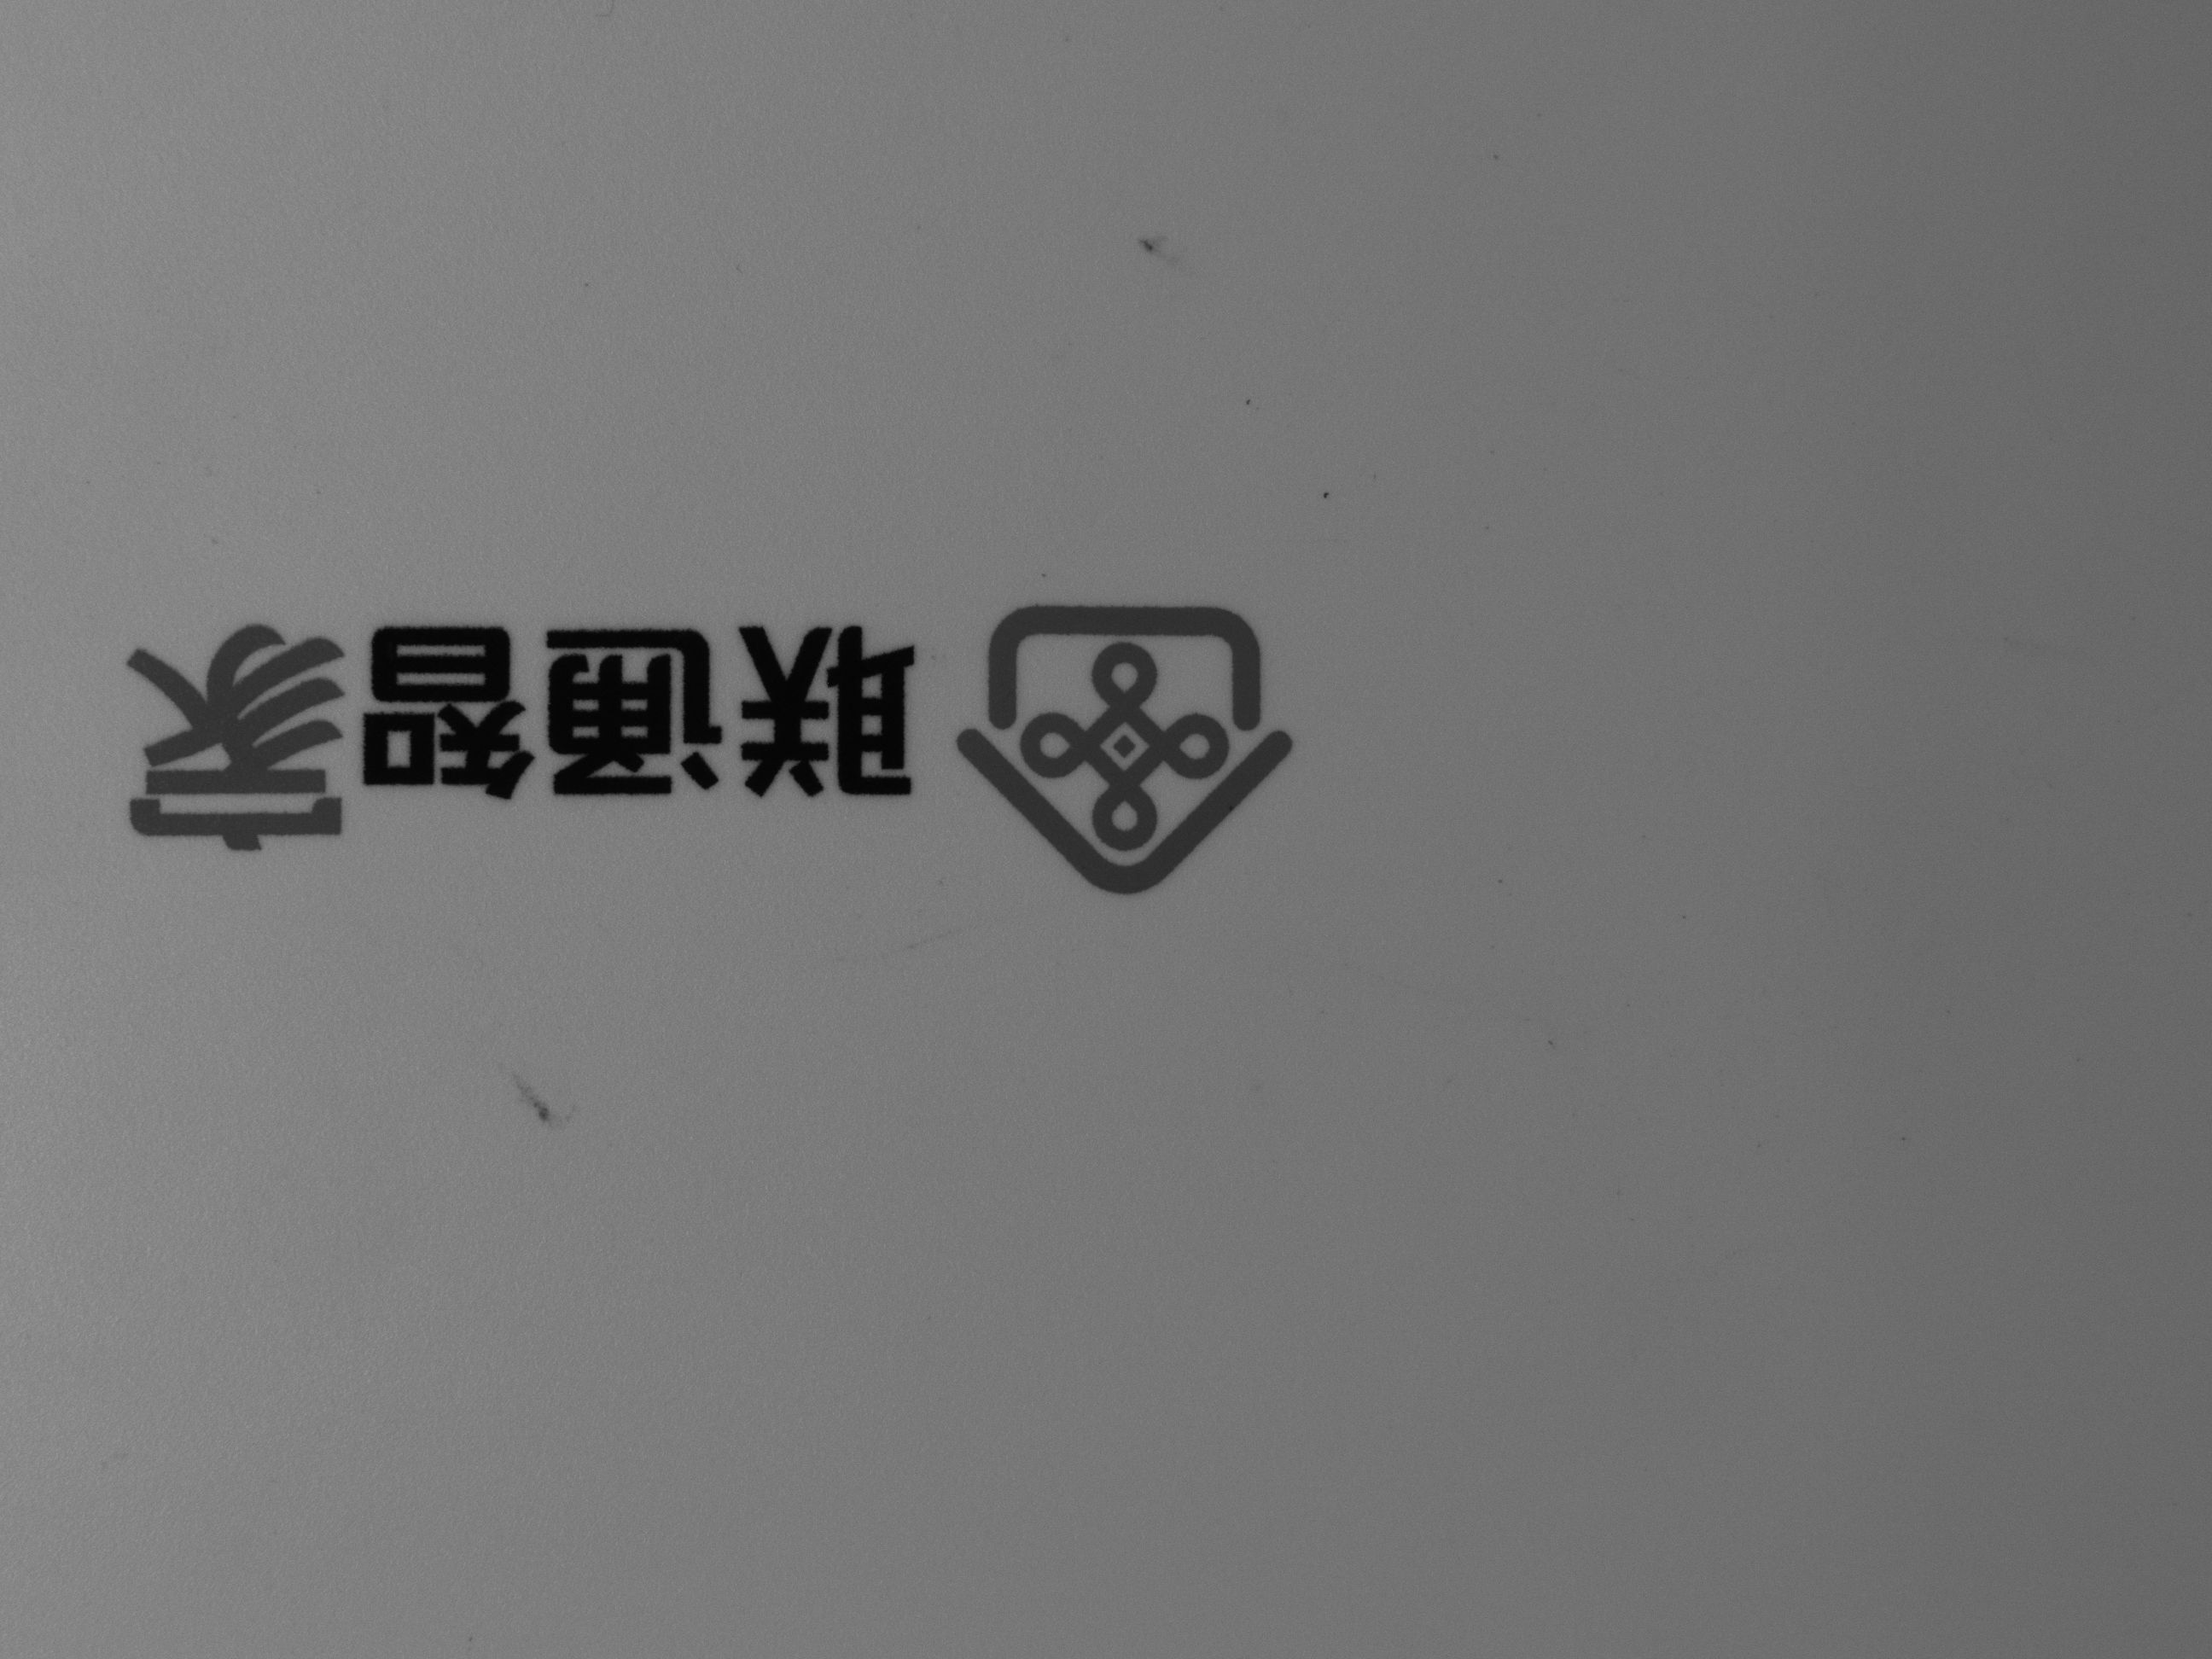BY_F6610Unicome: (31, 532, 1331, 913)
